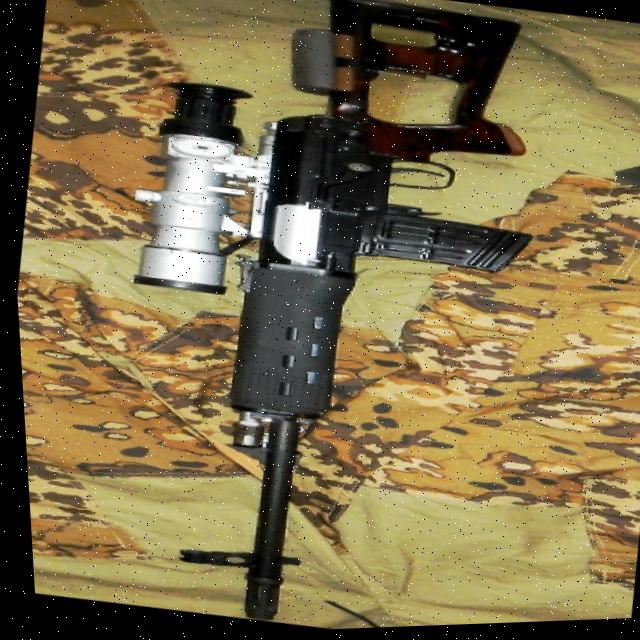firearm: (65, 0, 582, 638)
